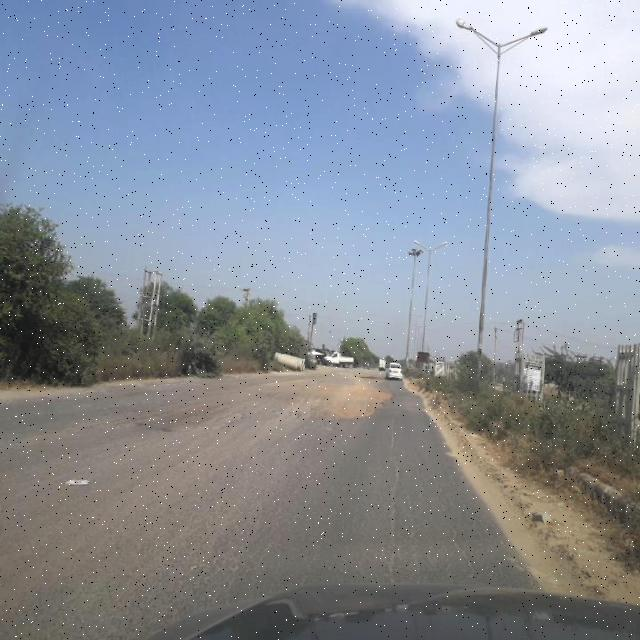D00: (375, 414, 410, 574), (437, 488, 479, 575)
D20: (14, 472, 248, 609)
D40: (266, 378, 399, 421), (127, 400, 249, 437)
